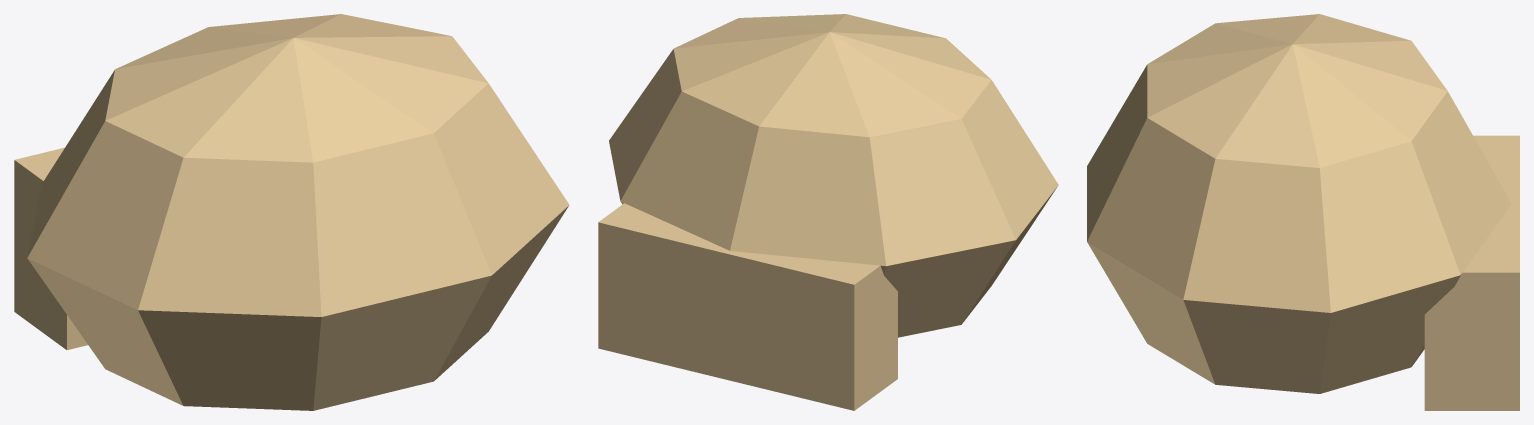
The model's file is npc_headwear_01.glb.
3 views of the same model, side by side, from view 1: azimuth 30°, elevation 25°; view 2: azimuth 150°, elevation 25°; view 3: azimuth 270°, elevation 25° (orthographic). The views are drawn at different scales.
Visible parts, largest first — view 1: npc_headwear_01; view 2: npc_headwear_01; view 3: npc_headwear_01.
Boxes of the visible parts, box(x1,y1,x2,y2) form: npc_headwear_01: box(14, 14, 569, 410); npc_headwear_01: box(598, 14, 1058, 410); npc_headwear_01: box(1087, 14, 1519, 410).
Bounding box in the file's own units: 0.5405 × 0.3696 × 0.4538.
